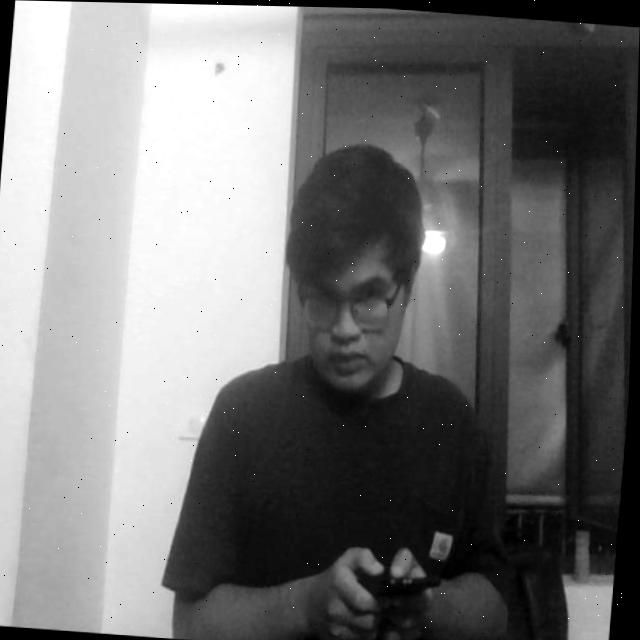phone: (347, 538, 447, 634)
